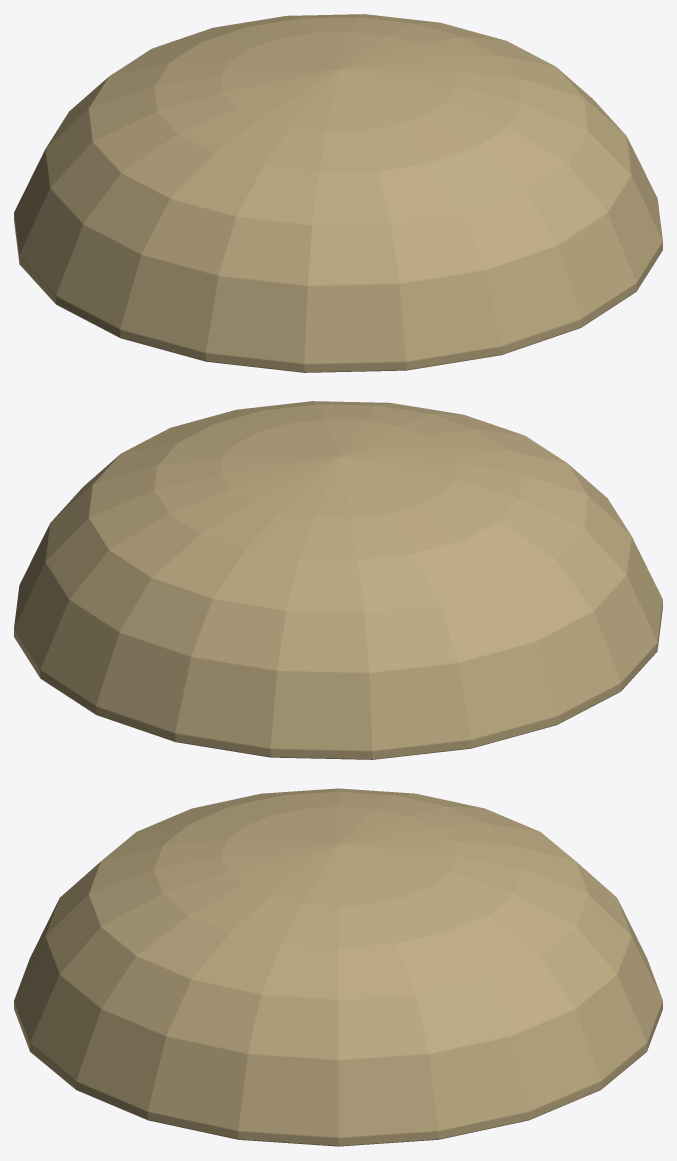
The model's file is hamburgerBunTop.fbx.
3 renders of one model, top to bottom at view 1: azimuth 30°, elevation 25°; view 2: azimuth 150°, elevation 25°; view 3: azimuth 270°, elevation 25°, orthographic.
Visible parts, largest first — view 1: hamburgerBunTop; view 2: hamburgerBunTop; view 3: hamburgerBunTop.
Part boxes in pixels (box(x1,y1,x2,y2)): hamburgerBunTop: box(14, 14, 662, 372); hamburgerBunTop: box(14, 401, 662, 759); hamburgerBunTop: box(14, 788, 662, 1146).
Size of the model in its own units: 20 by 5.61 by 20.
